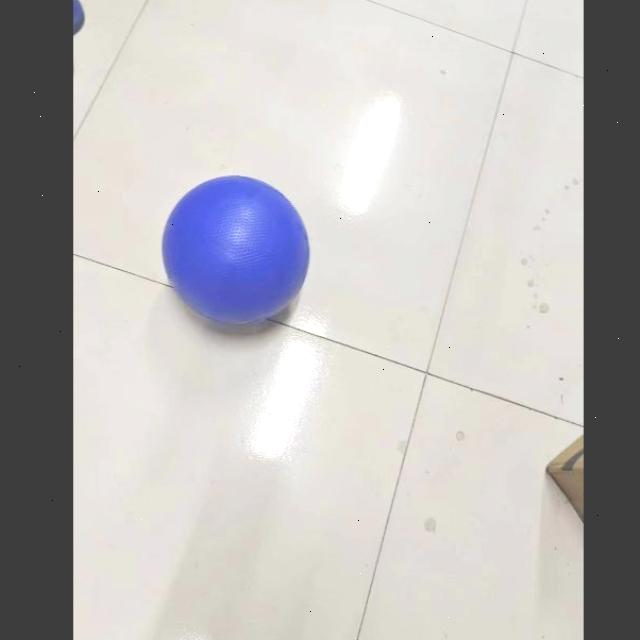B: (158, 172, 308, 330)
